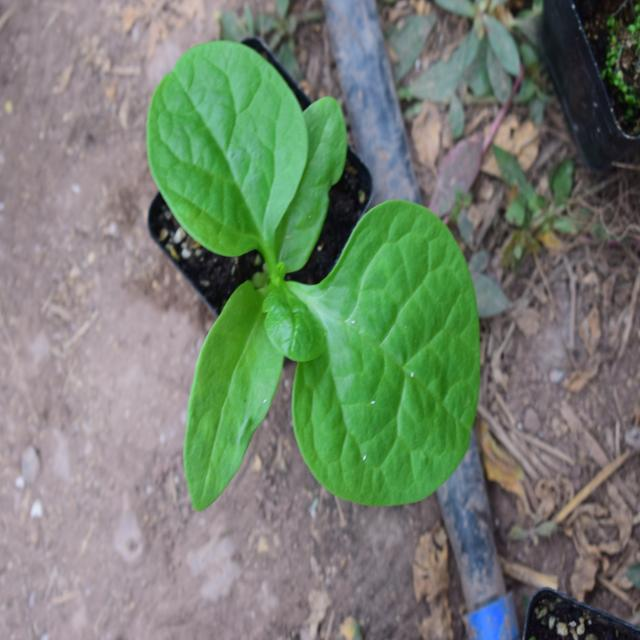Ceylon spinach: (143, 52, 470, 524)
